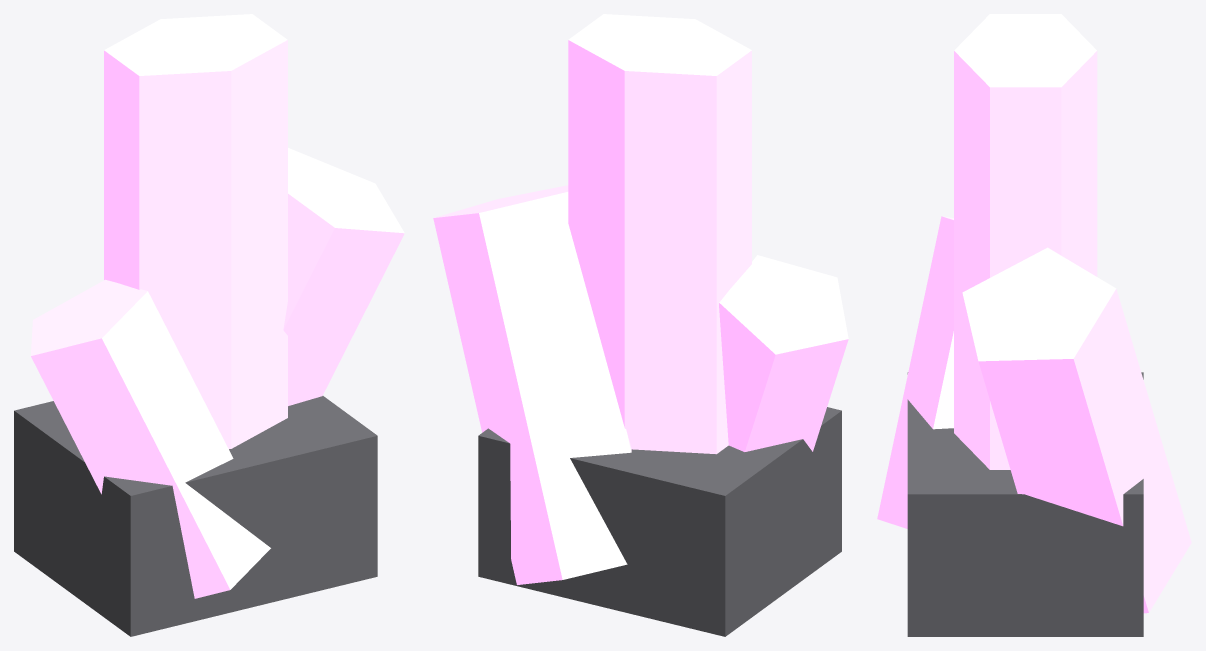
File: FulguriteSpikeShard.glb
3 renders of one model, left to right at view 1: azimuth 30°, elevation 25°; view 2: azimuth 150°, elevation 25°; view 3: azimuth 270°, elevation 25°, orthographic.
Visible parts, largest first — view 1: FulguriteSpikeShard; view 2: FulguriteSpikeShard; view 3: FulguriteSpikeShard.
Part boxes in pixels (x1,y1,x2,y2): FulguriteSpikeShard: (14,14,404,636); FulguriteSpikeShard: (433,14,848,636); FulguriteSpikeShard: (877,14,1191,636).
Size of the model in its own units: 1.86 by 2.47 by 1.32.
